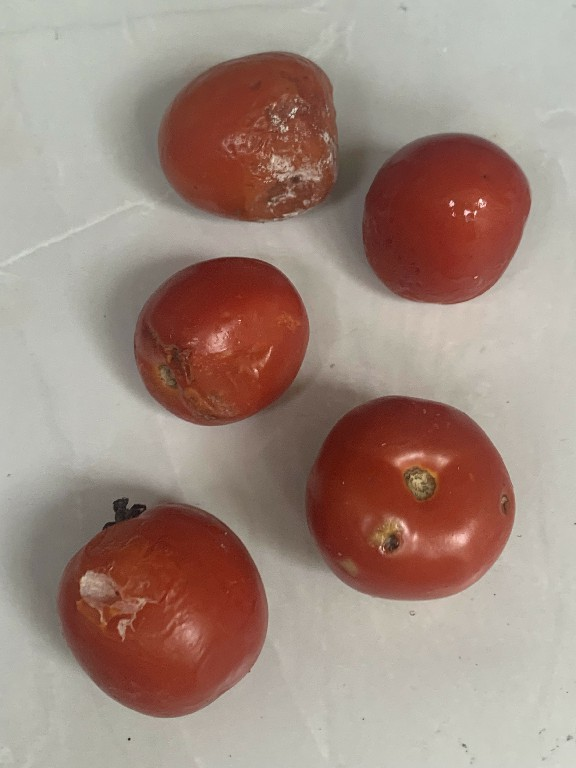NG: (49, 478, 286, 735), (294, 381, 523, 625), (124, 242, 317, 440), (147, 44, 345, 230)
OK: (347, 118, 536, 314)
